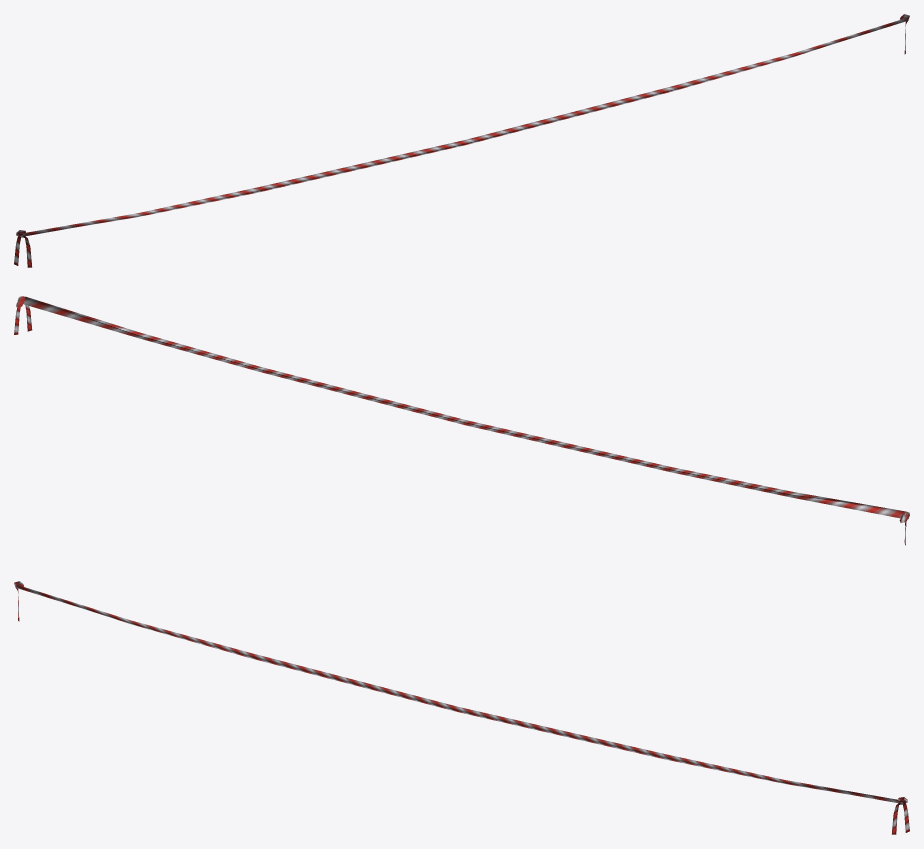
File: jsf_2P_String_s03_03.fbx
The picture shows the model from 3 angles, top to bottom: view 1: azimuth 30°, elevation 25°; view 2: azimuth 150°, elevation 25°; view 3: azimuth 330°, elevation 25°; orthographic projection.
Visible parts, largest first — view 1: jsf_2P_String_s03_03; view 2: jsf_2P_String_s03_03; view 3: jsf_2P_String_s03_03.
Part boxes in pixels (x1=…): jsf_2P_String_s03_03: x1=14, y1=14, x2=909, y2=267; jsf_2P_String_s03_03: x1=14, y1=296, x2=909, y2=545; jsf_2P_String_s03_03: x1=14, y1=581, x2=909, y2=834.
Bounding box in the file's own units: 254 × 9.72 × 4.94.
